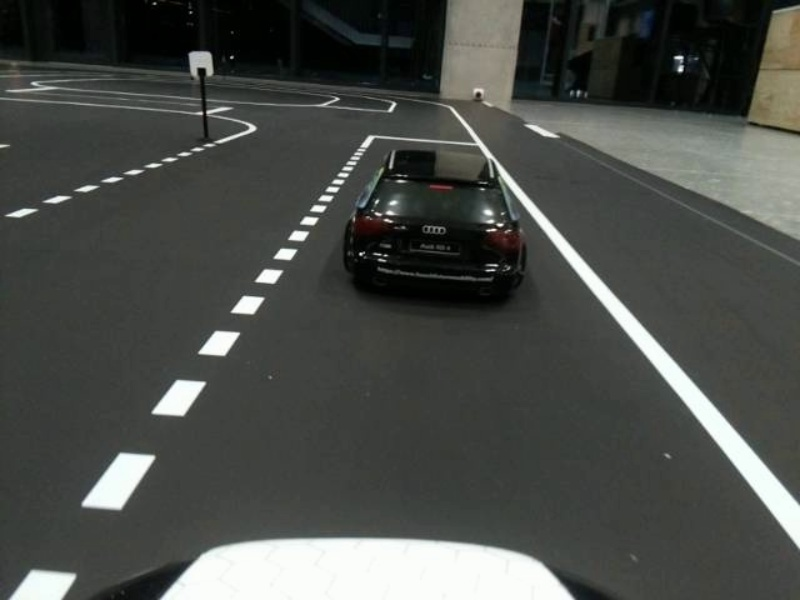car: (347, 145, 535, 313)
